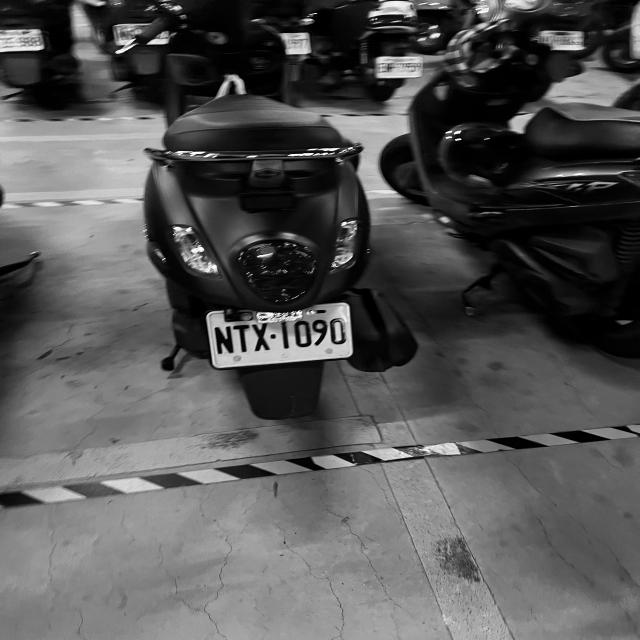-: (268, 332, 278, 340)
0: (294, 318, 312, 348), (330, 316, 348, 344)
1: (280, 319, 292, 352)
9: (311, 316, 331, 346)
N: (212, 325, 233, 353)
T: (234, 323, 251, 352)
X: (250, 322, 272, 352)
plate: (210, 310, 354, 360), (377, 56, 424, 78)
